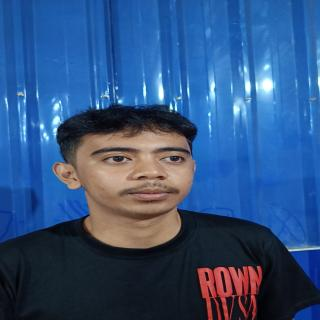Netral: (71, 131, 206, 221)
